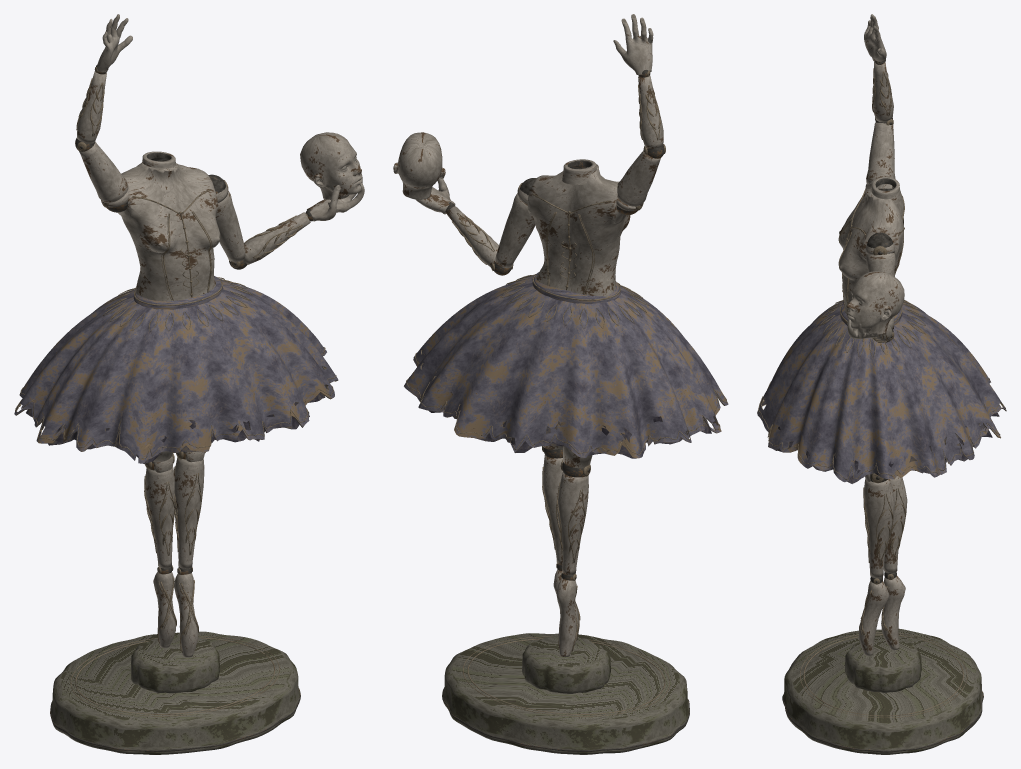
The model's file is Bailarina_Roblox.glb.
3 renders of one model, left to right at view 1: azimuth 30°, elevation 25°; view 2: azimuth 150°, elevation 25°; view 3: azimuth 270°, elevation 25°, orthographic. The views are drawn at different scales.
Parts seen in each view (by area): view 1: Tutu e renda · Damasco, Pedestal · Calcário, Corpete e encaixe · Porcelana mineral, Pernas e sapatilhas · Porcelana mineral, Braços e mãos · Porcelana mineral, Cabeça · Porcelana mineral, Tutu e renda · Relevo de bronze envelhecido, Pernas e sapatilhas · Relevo de bronze envelhecido, Corpete e encaixe · Relevo de bronze envelhecido, Pedestal · Relevo de bronze envelhecido, Braços e mãos · Relevo de bronze envelhecido, Braços e mãos · Porcelana mineral.002 (+5 smaller); view 2: Tutu e renda · Damasco, Pedestal · Calcário, Corpete e encaixe · Porcelana mineral, Braços e mãos · Porcelana mineral, Pernas e sapatilhas · Porcelana mineral, Cabeça · Porcelana mineral, Tutu e renda · Relevo de bronze envelhecido, Braços e mãos · Porcelana mineral.002, Pedestal · Relevo de bronze envelhecido, Corpete e encaixe · Relevo de bronze envelhecido, Pernas e sapatilhas · Relevo de bronze envelhecido, Braços e mãos · Relevo de bronze envelhecido (+6 smaller); view 3: Tutu e renda · Damasco, Pedestal · Calcário, Pernas e sapatilhas · Porcelana mineral, Corpete e encaixe · Porcelana mineral, Braços e mãos · Porcelana mineral, Cabeça · Porcelana mineral, Tutu e renda · Relevo de bronze envelhecido, Pernas e sapatilhas · Relevo de bronze envelhecido, Pedestal · Relevo de bronze envelhecido, Braços e mãos · Porcelana mineral.002, Braços e mãos · Relevo de bronze envelhecido, Pedestal · Ferro antigo (+3 smaller).
Boxes of the visible parts, x1,y1,x2,y2 form: Tutu e renda · Damasco: (14,278,338,463); Pedestal · Calcário: (51,631,299,754); Corpete e encaixe · Porcelana mineral: (118,162,220,301); Pernas e sapatilhas · Porcelana mineral: (145,451,204,657); Braços e mãos · Porcelana mineral: (77,71,310,264); Cabeça · Porcelana mineral: (300,132,362,199); Tutu e renda · Relevo de bronze envelhecido: (15,277,338,463); Pernas e sapatilhas · Relevo de bronze envelhecido: (144,451,205,652); Corpete e encaixe · Relevo de bronze envelhecido: (132,189,222,305); Pedestal · Relevo de bronze envelhecido: (70,635,279,716); Braços e mãos · Relevo de bronze envelhecido: (76,67,307,267); Braços e mãos · Porcelana mineral.002: (97,14,132,72); Tutu e renda · Damasco: (404,275,728,458); Pedestal · Calcário: (443,633,689,754); Corpete e encaixe · Porcelana mineral: (527,164,630,297); Braços e mãos · Porcelana mineral: (447,75,663,268); Pernas e sapatilhas · Porcelana mineral: (543,445,592,656); Cabeça · Porcelana mineral: (393,132,445,199); Tutu e renda · Relevo de bronze envelhecido: (406,274,726,458); Braços e mãos · Porcelana mineral.002: (613,14,653,74); Pedestal · Relevo de bronze envelhecido: (463,636,669,716); Corpete e encaixe · Relevo de bronze envelhecido: (532,193,620,300); Pernas e sapatilhas · Relevo de bronze envelhecido: (542,446,590,651); Braços e mãos · Relevo de bronze envelhecido: (452,71,665,270); Tutu e renda · Damasco: (757,301,1006,482); Pedestal · Calcário: (783,628,982,754); Pernas e sapatilhas · Porcelana mineral: (858,474,907,655); Corpete e encaixe · Porcelana mineral: (839,176,903,313); Braços e mãos · Porcelana mineral: (865,62,895,341); Cabeça · Porcelana mineral: (846,271,904,334); Tutu e renda · Relevo de bronze envelhecido: (758,300,1006,481); Pernas e sapatilhas · Relevo de bronze envelhecido: (860,473,905,652); Pedestal · Relevo de bronze envelhecido: (800,632,967,718); Braços e mãos · Porcelana mineral.002: (864,14,886,63); Braços e mãos · Relevo de bronze envelhecido: (872,61,894,342); Pedestal · Ferro antigo: (782,691,983,752).
Bounding box in the file's own units: 10.69 × 22.66 × 7.75.
Materials: 7 (7 with a texture image).
